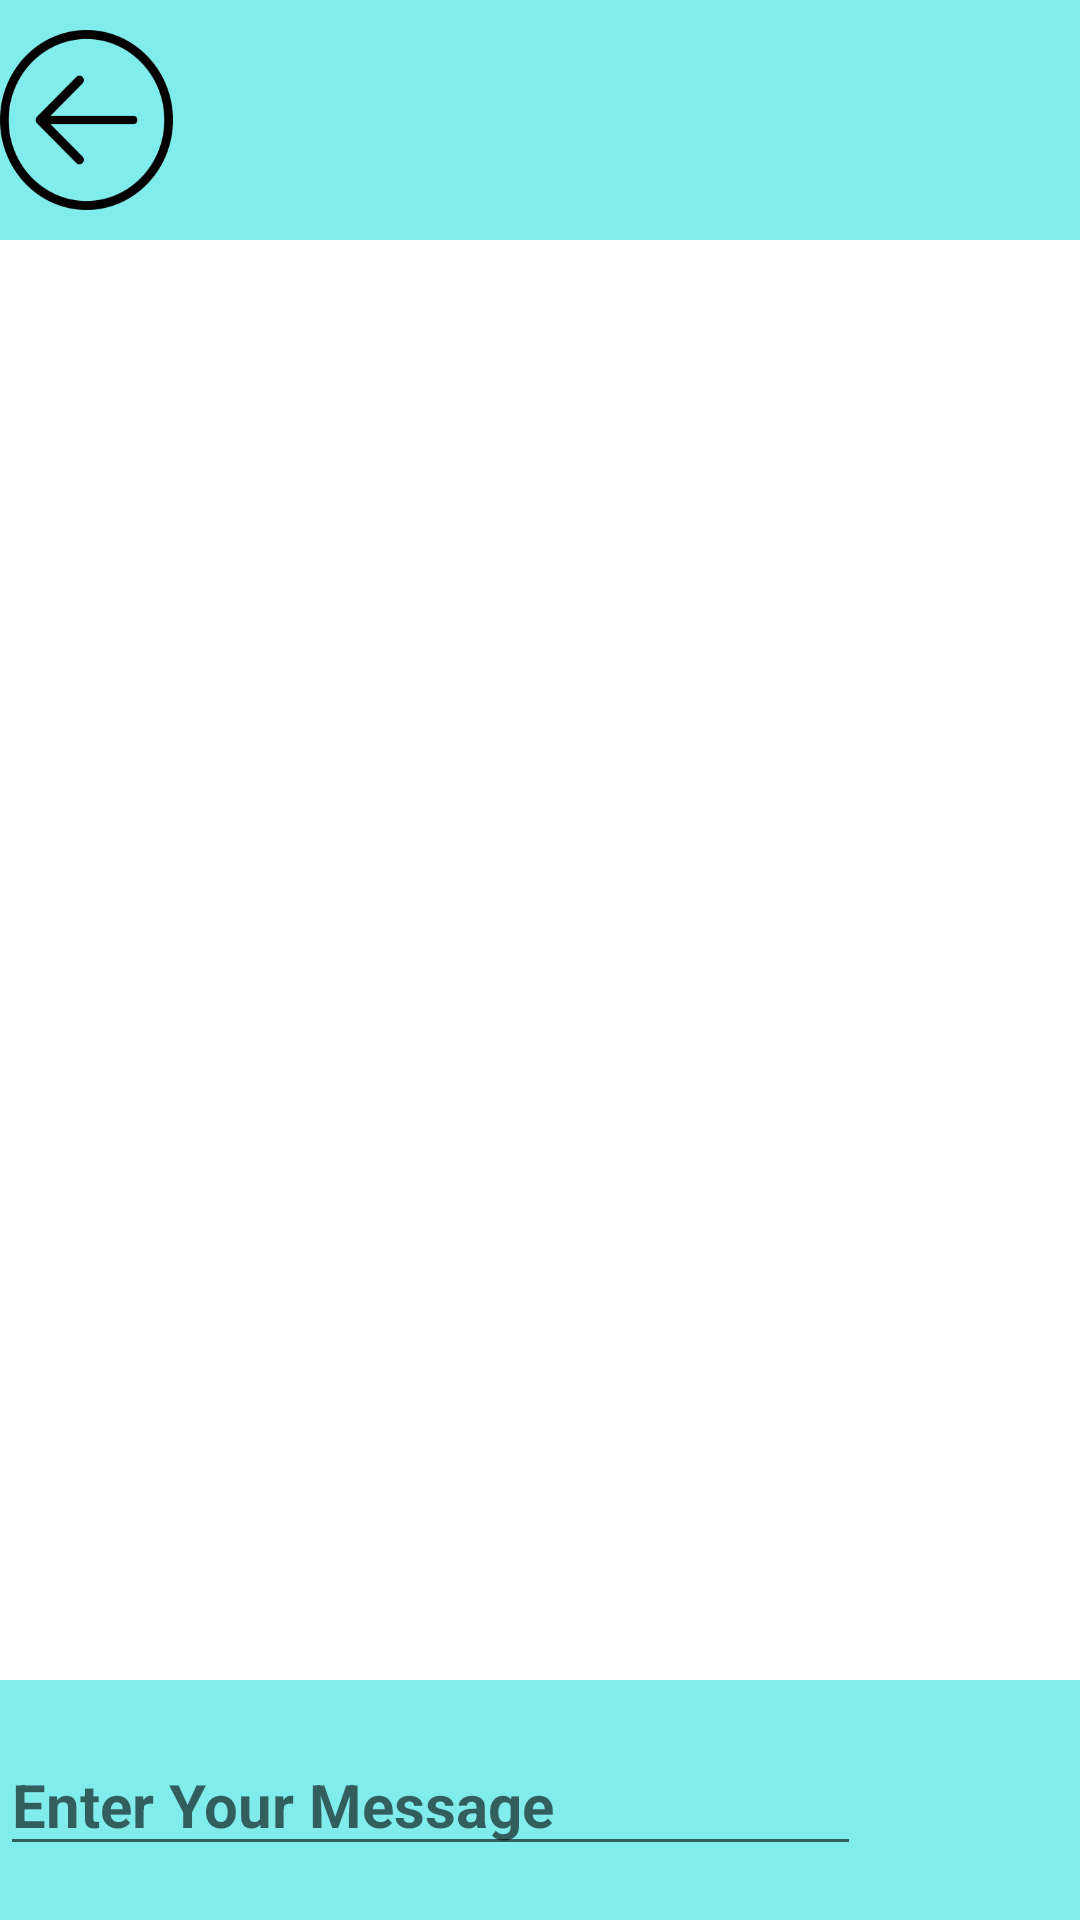

Icon click points for this 1080×1920 phone screenshot, format [x,y]:
back: [86,120]
